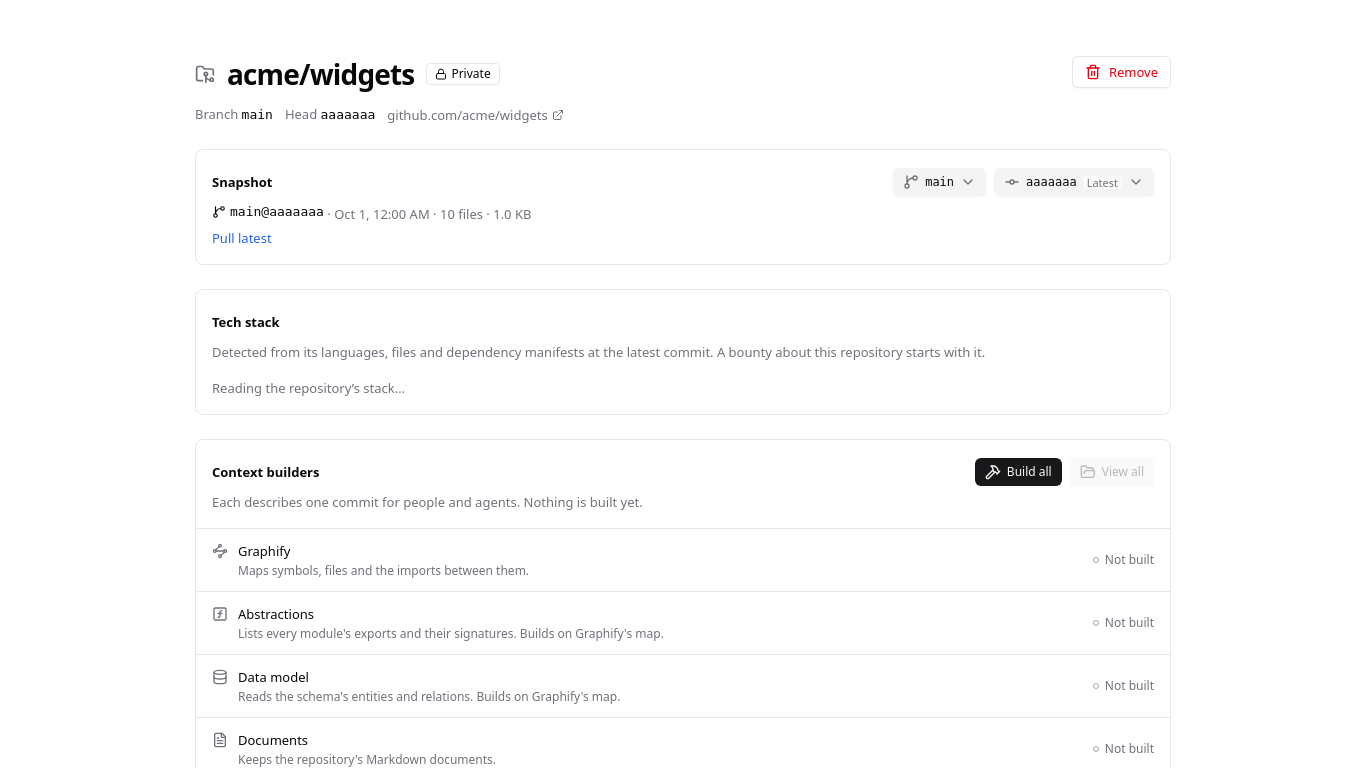
Test: pulling a branch with nothing new says it is up to date
The width and height of the screenshot is (1366, 768).
Expected: the text "main@aaaaaaa · Oct 1, 12:00 AM · 10 files · 1.0 KB" is shown, [212,204,531,223]
Step 1. Click the button "Pull latest" → (242, 238), box [212,228,272,248]
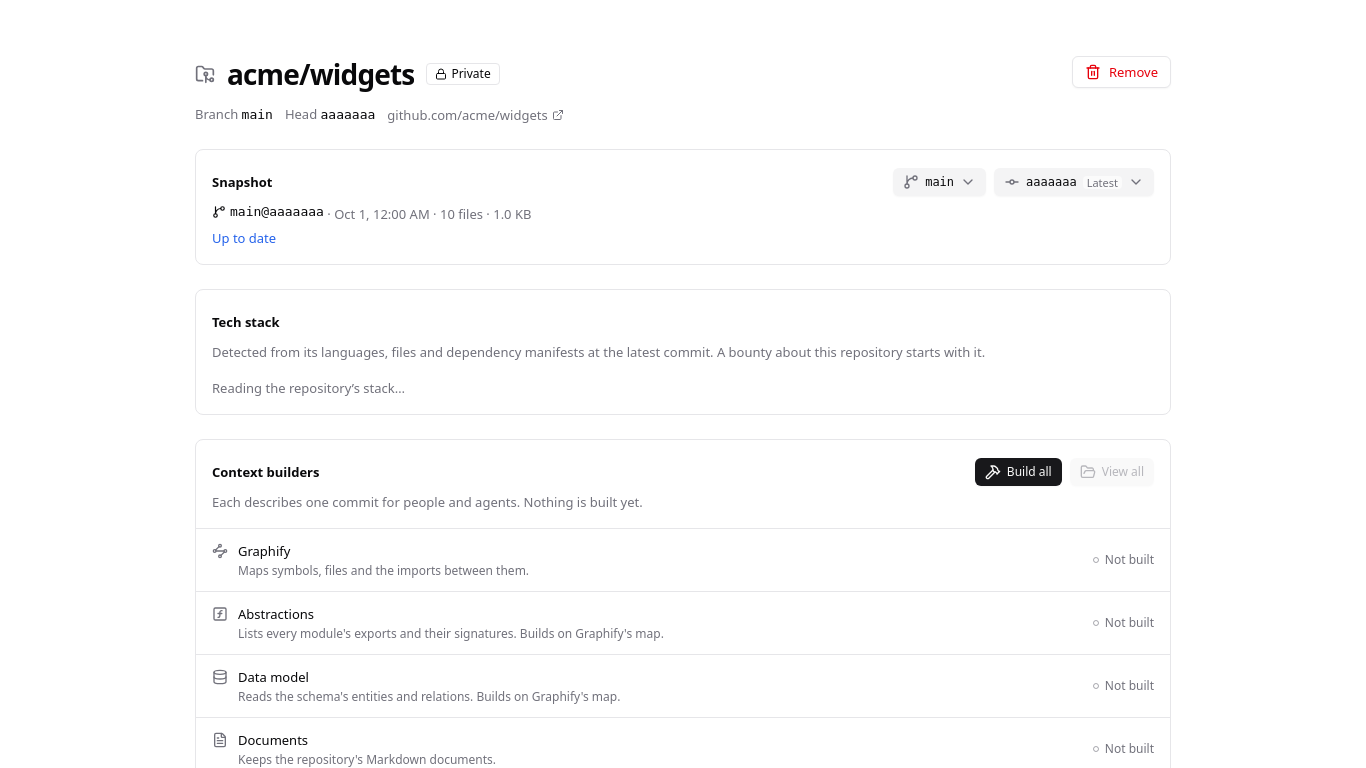
Expected: the dropdown named "Source snapshot" shows "aaaaaaa", [994,168,1154,196]
Result: the button "Up to date" is shown at [212,228,276,248]
